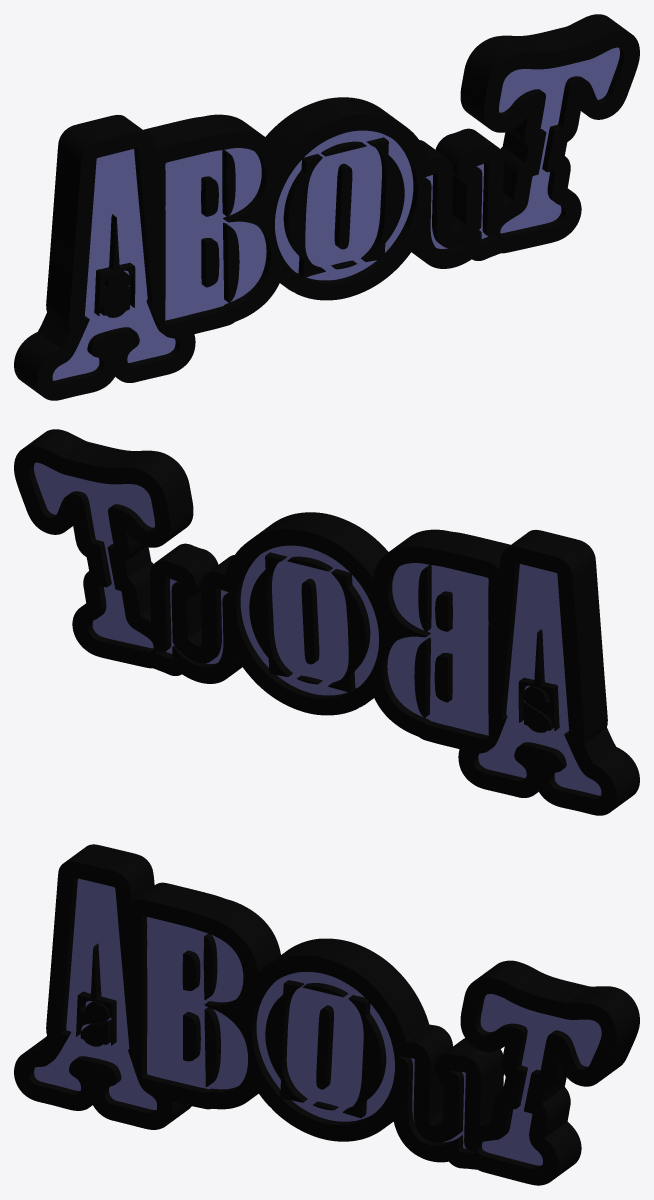
Rendered from about.glb.
The picture shows the model from 3 angles, top to bottom: view 1: azimuth 30°, elevation 25°; view 2: azimuth 150°, elevation 25°; view 3: azimuth 330°, elevation 25°; orthographic projection.
Visible parts, largest first — view 1: Curve.001; view 2: Curve.001; view 3: Curve.001.
Part boxes in pixels (x1,y1,x2,y2): Curve.001: [14, 14, 639, 400]; Curve.001: [14, 429, 639, 815]; Curve.001: [14, 844, 639, 1185].
Bounding box in the file's own units: 0.0998 × 0.0396 × 0.00659.
